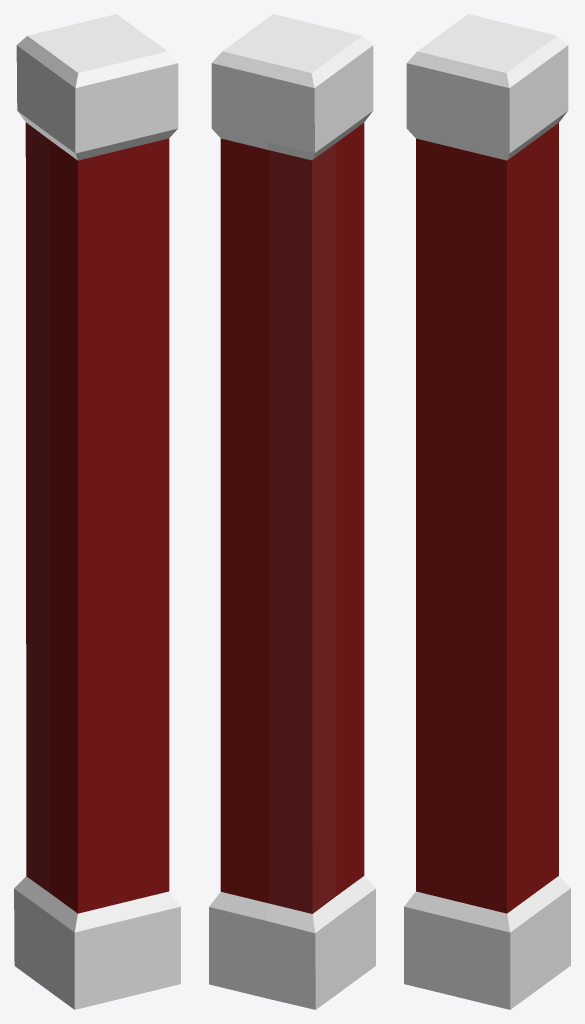
Rendered from g_o_RedWallCorner360.fbx.
3 renders of one model, left to right at view 1: azimuth 30°, elevation 25°; view 2: azimuth 150°, elevation 25°; view 3: azimuth 330°, elevation 25°, orthographic.
Parts seen in each view (by area): view 1: g_o_RedWallCorner360; view 2: g_o_RedWallCorner360; view 3: g_o_RedWallCorner360.
Boxes of the visible parts, x1,y1,x2,y2 form: g_o_RedWallCorner360: (14, 14, 180, 1009); g_o_RedWallCorner360: (209, 14, 375, 1009); g_o_RedWallCorner360: (404, 14, 570, 1009).
Size of the model in its own units: 0.2246 by 1.88 by 0.2223.
